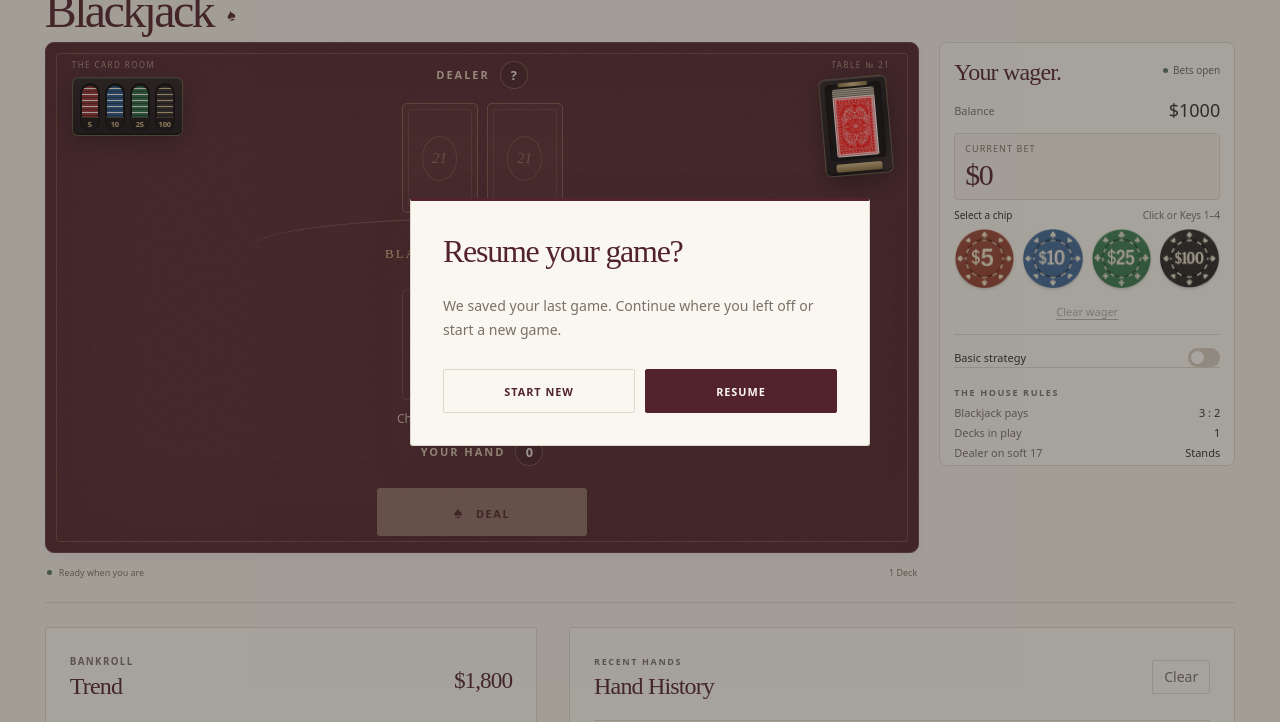
Scenario: BlackjackGame › handles fresh start action
The image size is (1280, 722).
Expected: the heading "Resume your game?" is shown, [443,233,682,269]
Click the button "Start New". click: point(539, 391)
box: [443,369,635,413]
(page scrolled)
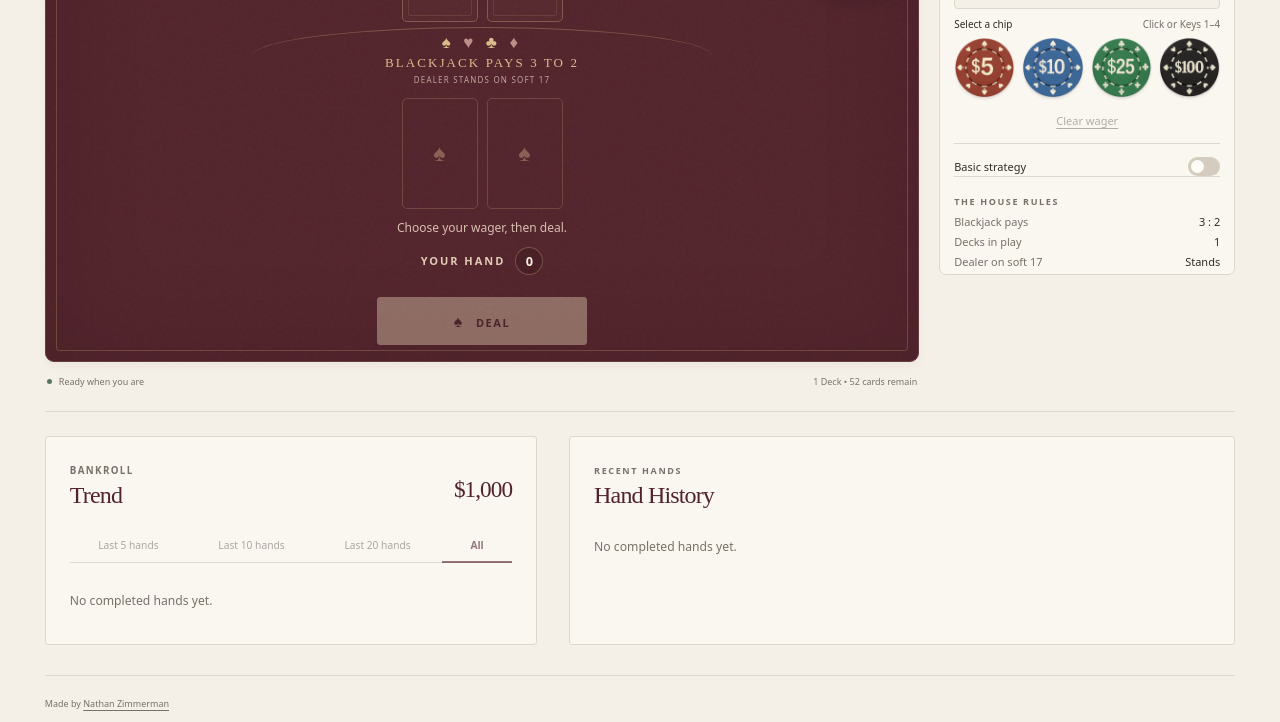
Result: the text "No completed hands yet." below "Trend" is shown at [70,592,212,608]
Result: the text "No completed hands yet." below "Hand History" is shown at [594,538,737,554]
